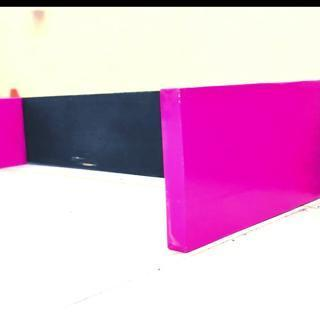xparking: (162, 92, 320, 221), (1, 100, 22, 167)
